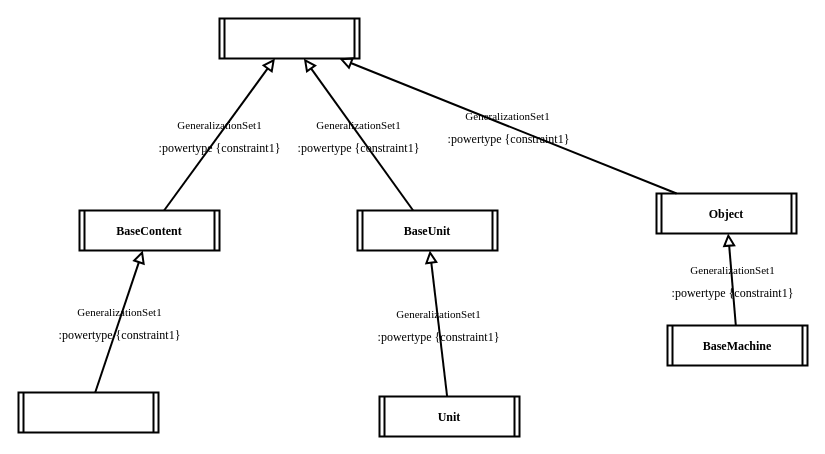
Some shapes in this 825 by 454 pixel diagram are drawn without their labels. The centre of each missing label's shape, as x and y in pixels:
"BaseObject" goes at (x=289, y=38).
"Content" goes at (x=88, y=412).
